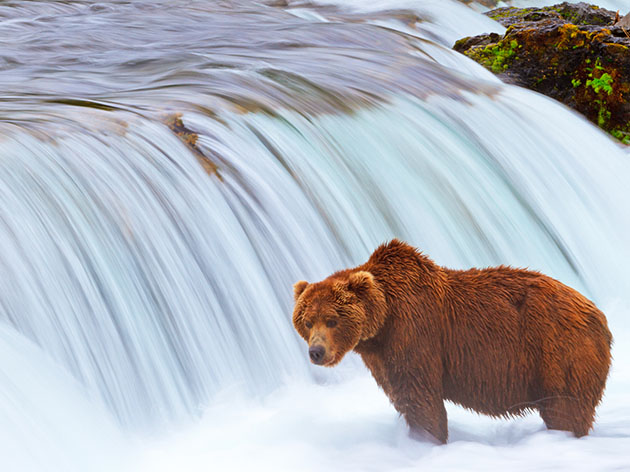bear: (288, 269, 382, 369)
